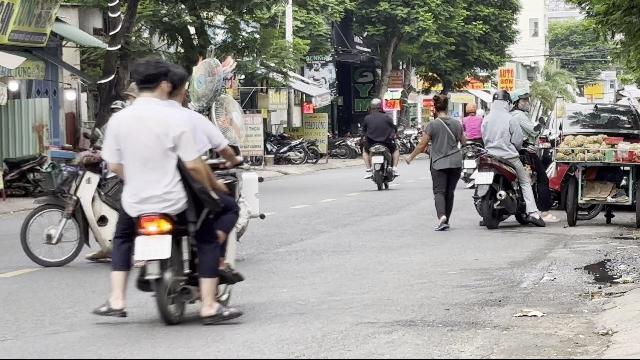helmet: (509, 88, 531, 112), (489, 88, 507, 110)
licenseplate: (135, 235, 171, 259), (474, 172, 494, 184)
motorcyclist: (88, 58, 256, 326), (472, 85, 538, 229)
nohelmet: (125, 58, 189, 106), (156, 62, 190, 106)
